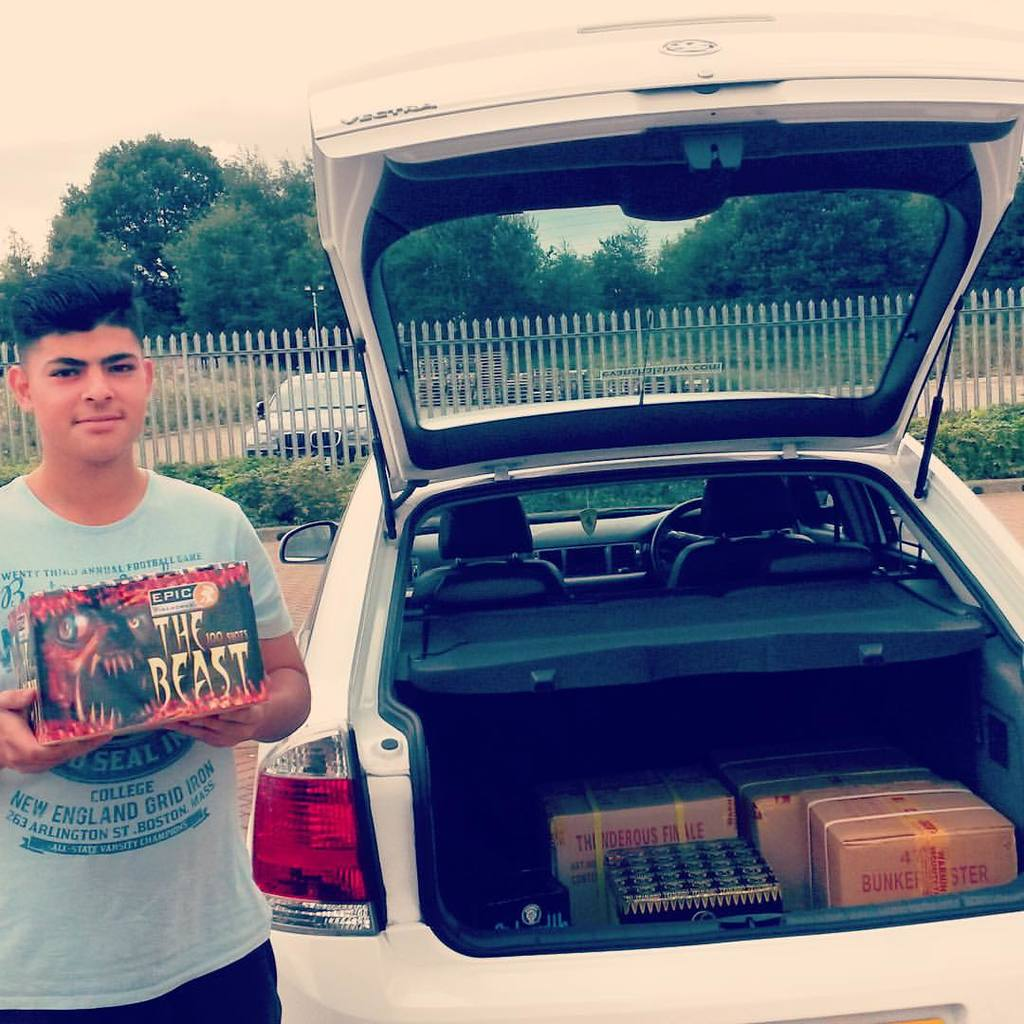Human_hand: (0, 686, 114, 774), (162, 698, 266, 753)
